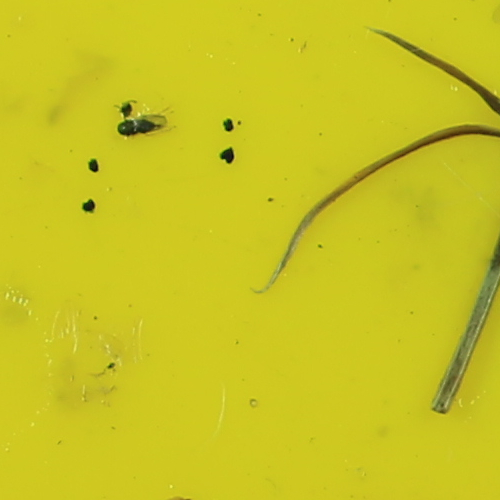Psyllaephagus: (112, 114, 165, 140)
